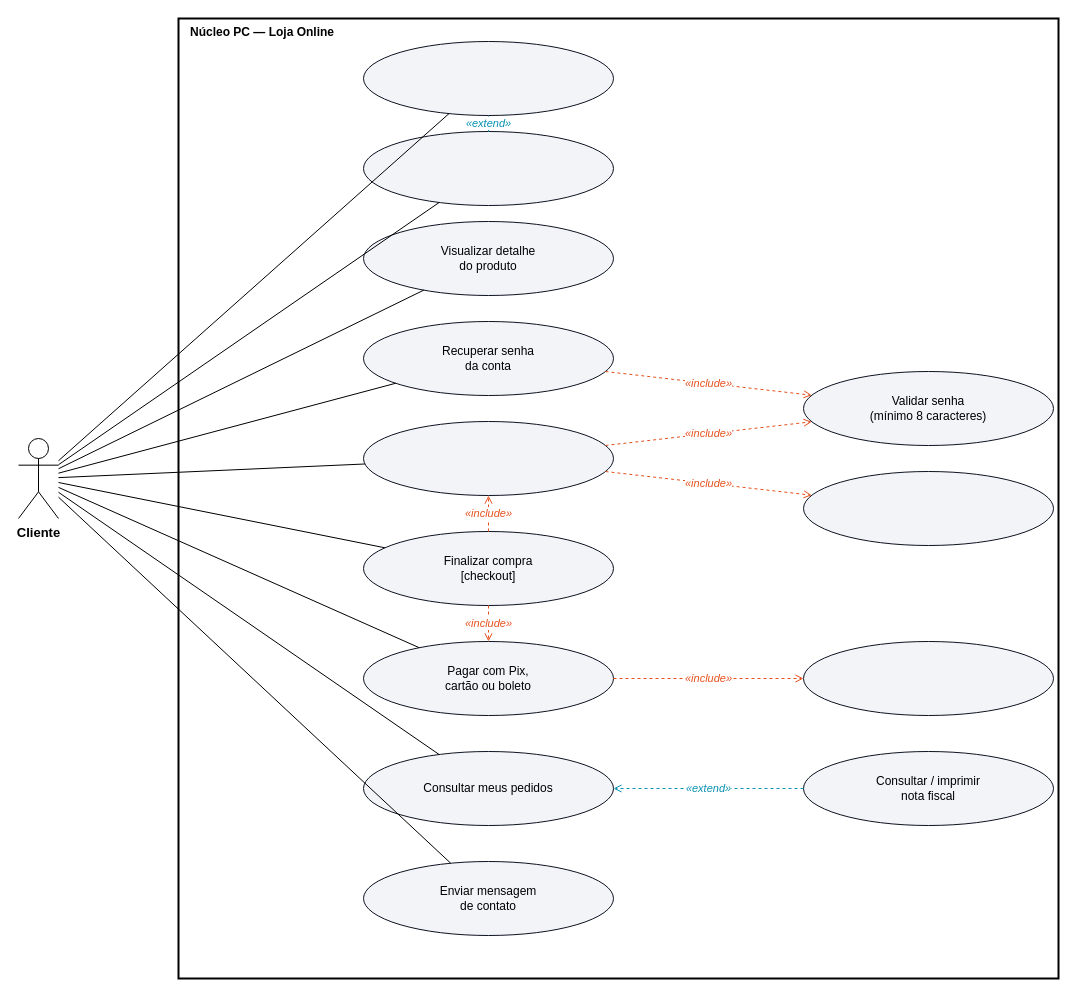
The diagram is 1077 pixels wide and 996 high, and some of its shapes have lost their labels. Here are the shapes that lost their labels. From the top down, the box of each, then its label:
(362, 40, 614, 116): Navegar catálogo e buscar produtos
(362, 130, 614, 206): Adicionar o produto ao carrinho
(362, 420, 614, 496): Cadastrar-se / fazer login
(802, 470, 1054, 546): Verificar dados via API (CPF, CEP, e-mail)
(802, 640, 1054, 716): Emitir nota fiscal (automática)
